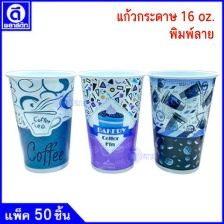paper_cup: (144, 63, 221, 177), (2, 64, 79, 176), (75, 65, 146, 176)
